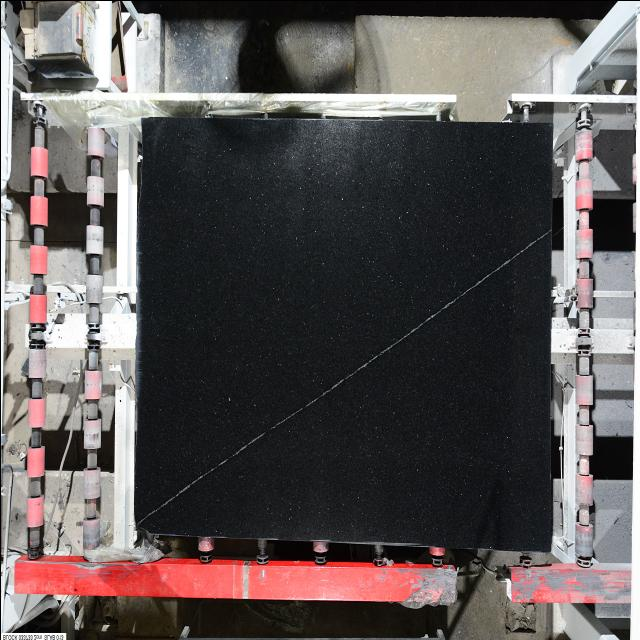chapa: (134, 117, 551, 550)
